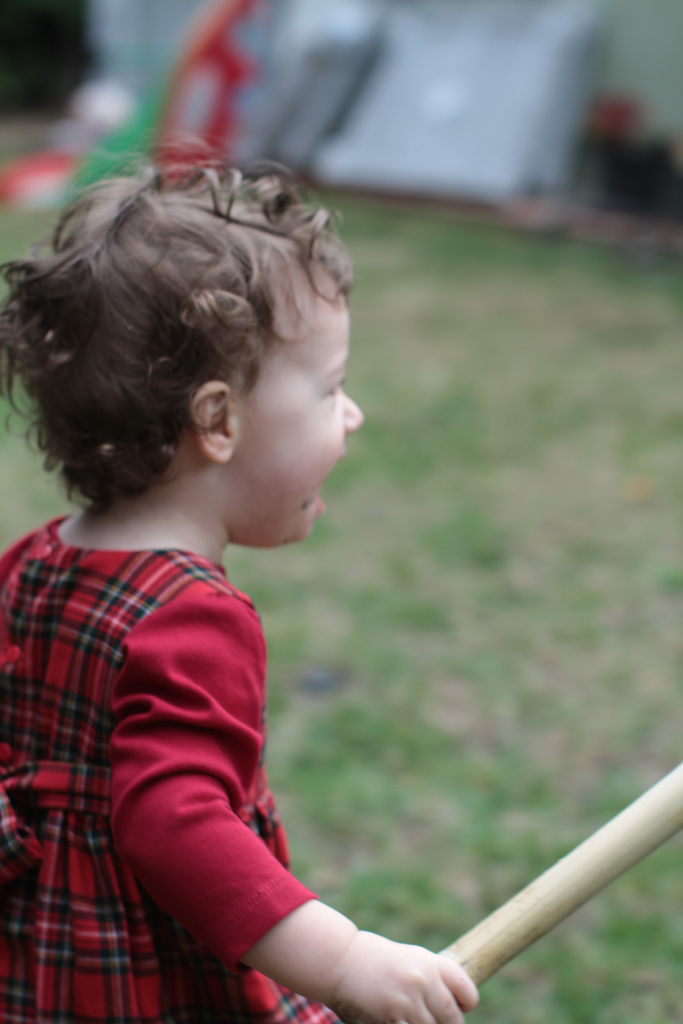Human_hand: (265, 916, 499, 1020)
